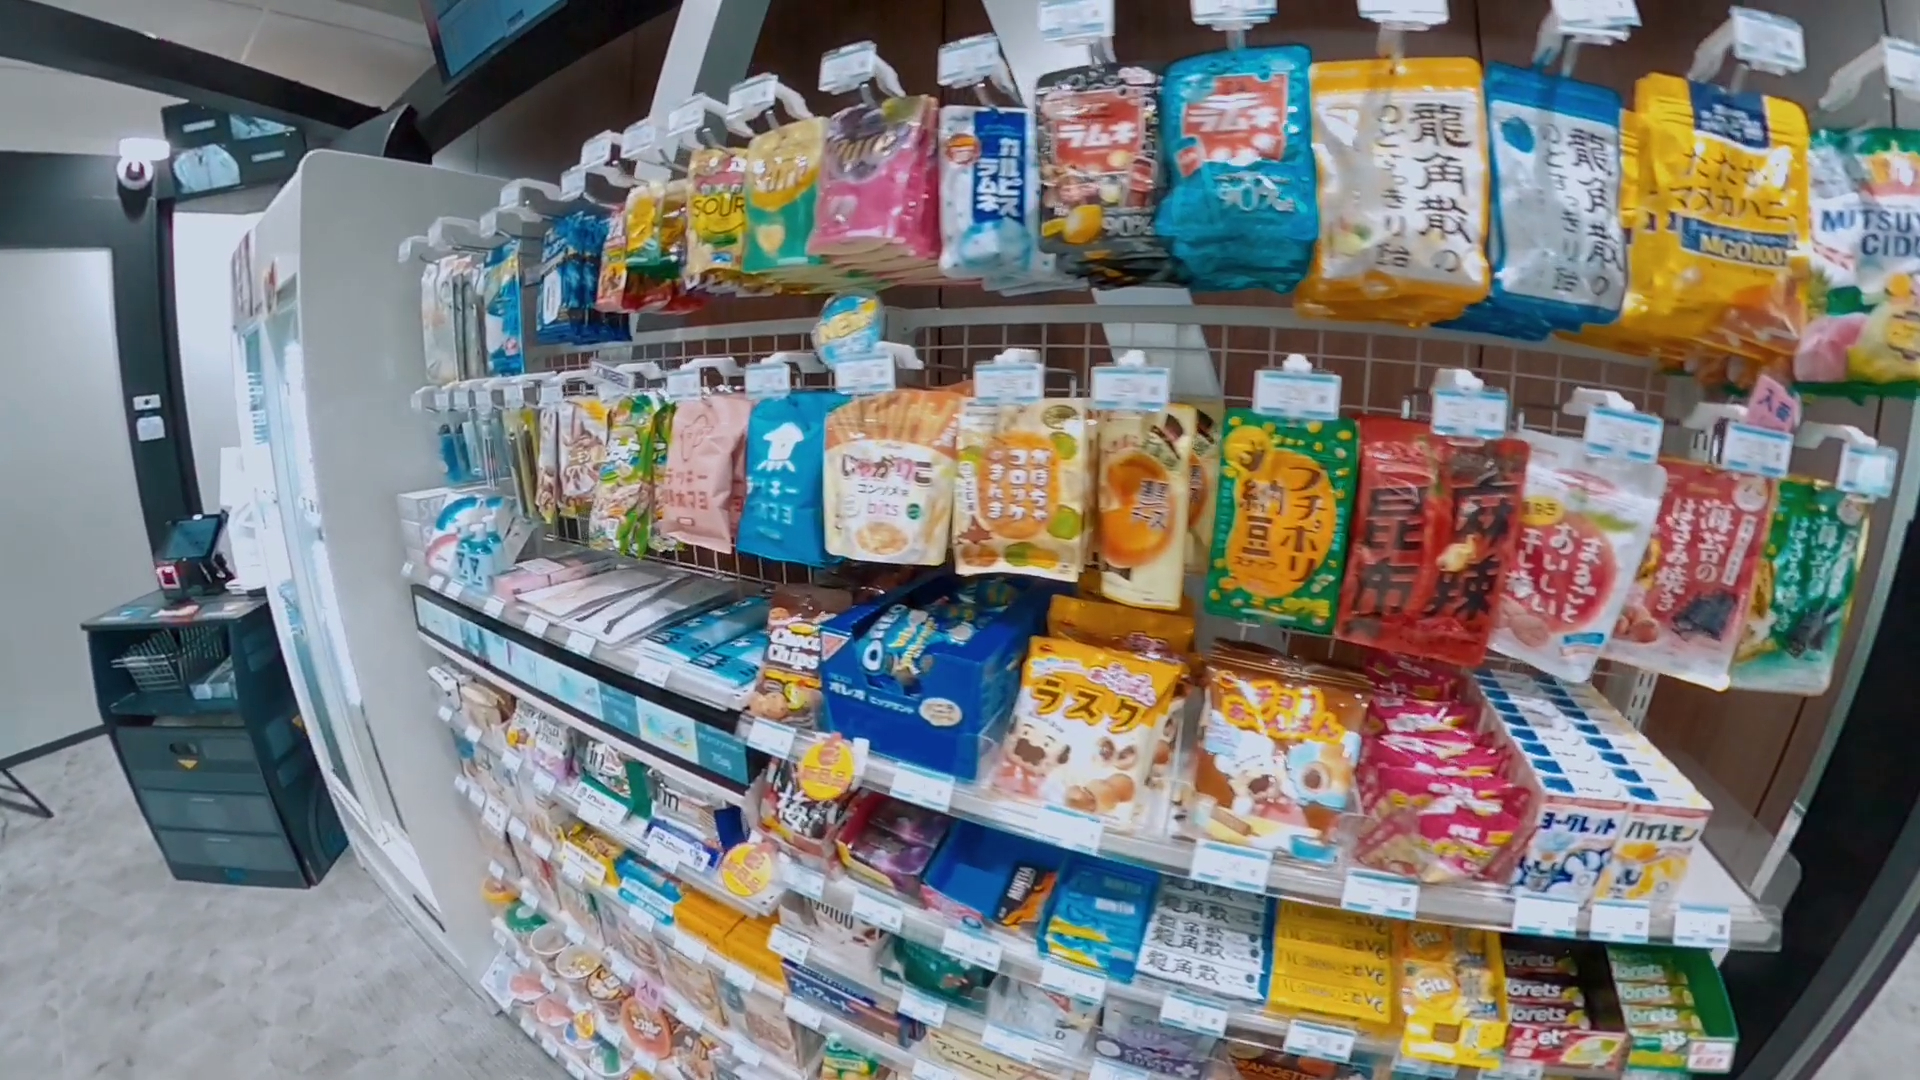NorinoHasamiyaki: (1733, 482, 1880, 692)
